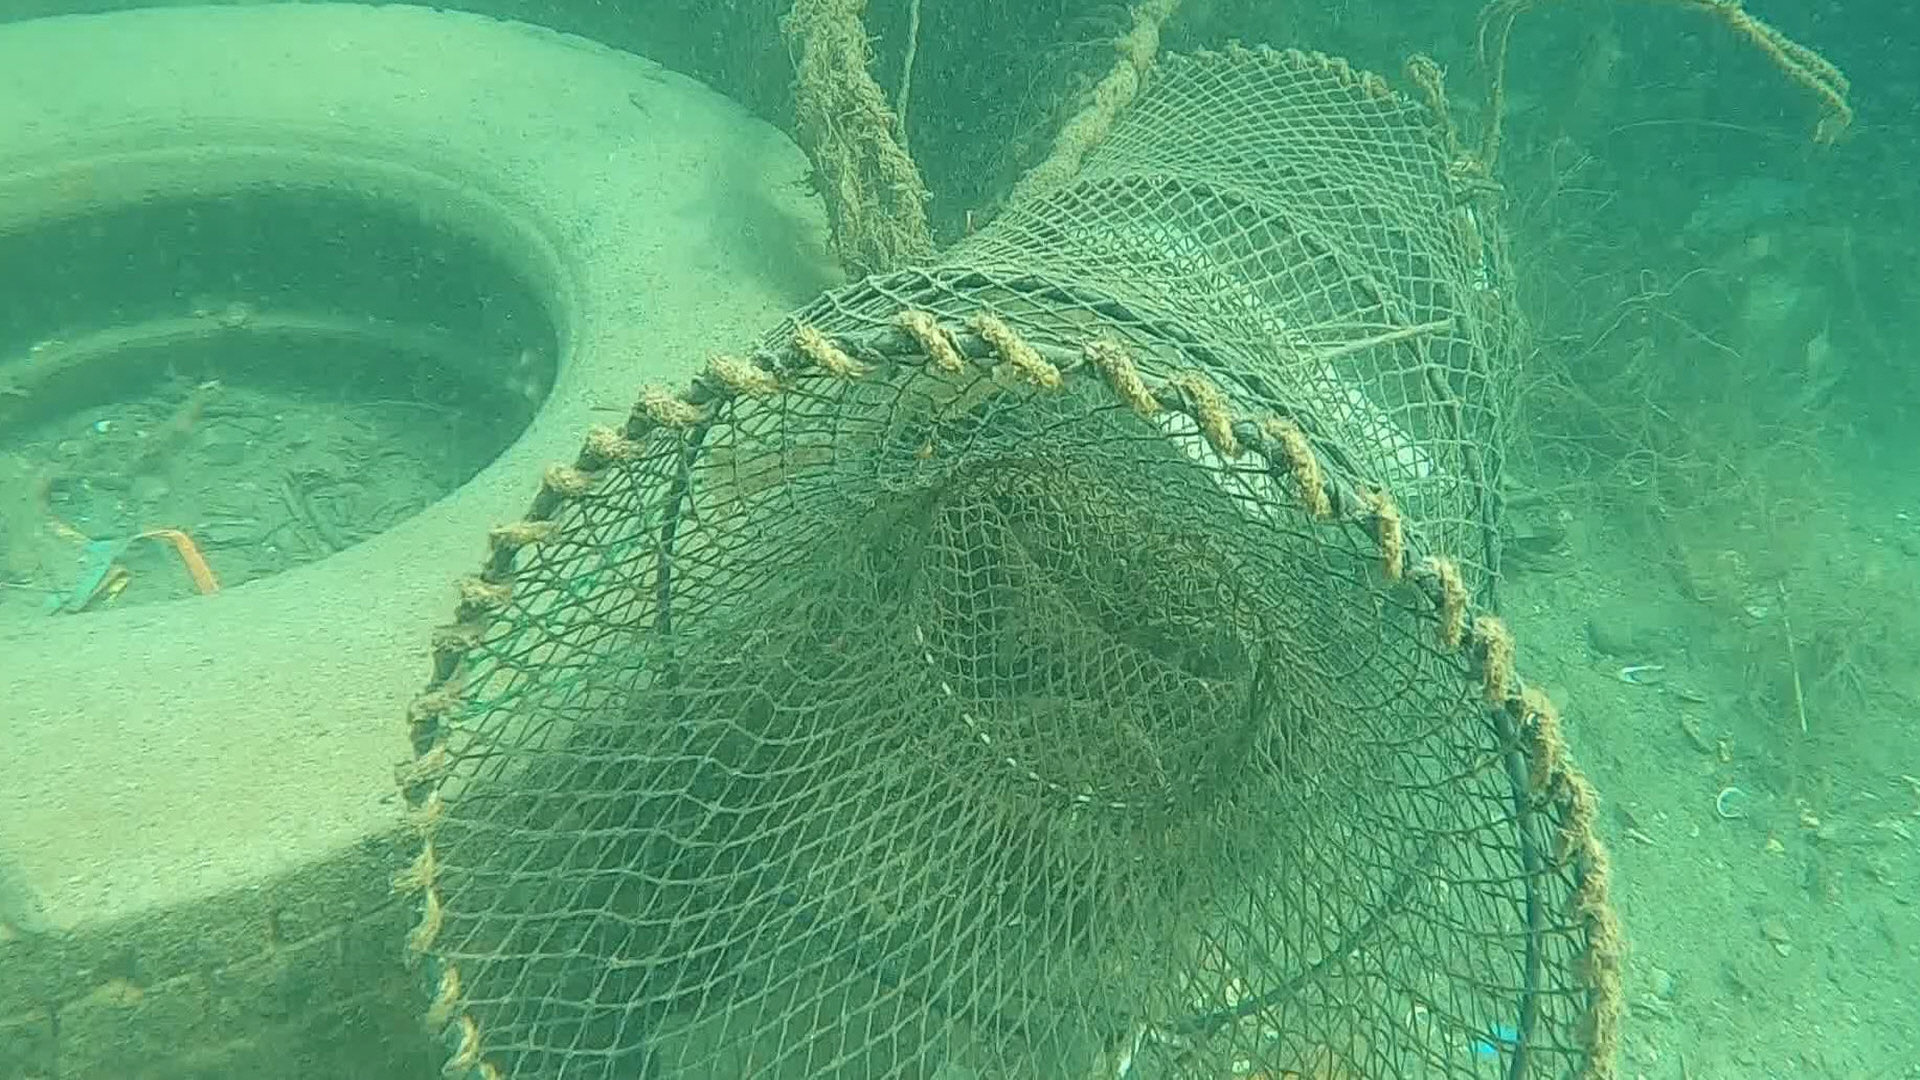bundle of ropes: (1472, 0, 1853, 165), (1004, 18, 1160, 211)
spring fish trap: (390, 44, 1626, 1080)
tire: (0, 0, 853, 1080)
